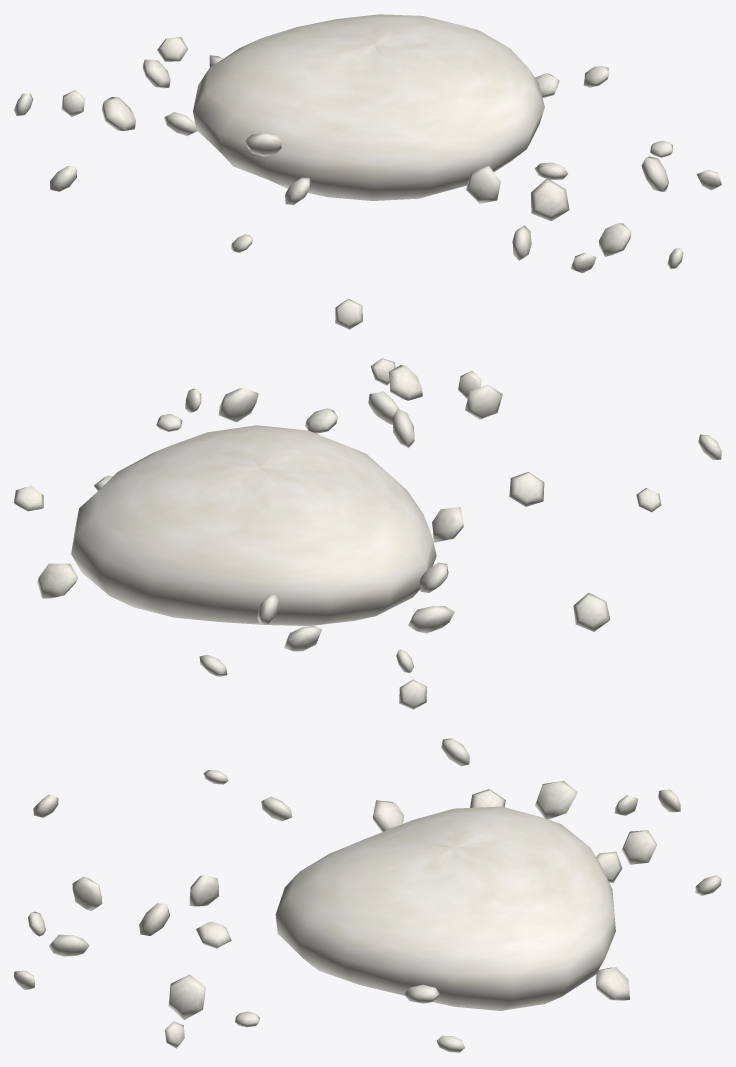
The model's file is leite_po.glb.
3 views of the same model, one above another, from view 1: azimuth 30°, elevation 25°; view 2: azimuth 150°, elevation 25°; view 3: azimuth 270°, elevation 25° (orthographic). The views are drawn at different scales.
Visible parts, largest first — view 1: leite_po; view 2: leite_po; view 3: leite_po.
Boxes of the visible parts, bbox=[...] form: leite_po: bbox=[14, 14, 721, 329]; leite_po: bbox=[14, 358, 721, 709]; leite_po: bbox=[14, 738, 721, 1052].
Bounding box in the file's own units: 0.6234 × 0.1323 × 0.6635.
1 material, 1 textured.
